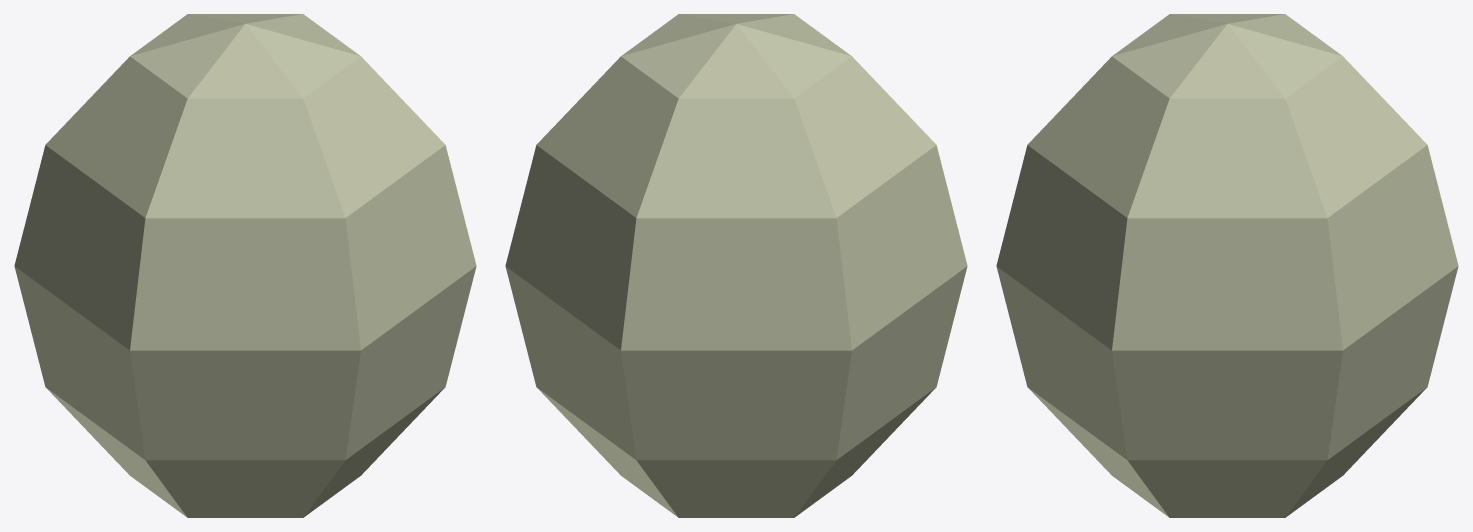
Rendered from Egg.fbx.
3 renders of one model, left to right at view 1: azimuth 30°, elevation 25°; view 2: azimuth 150°, elevation 25°; view 3: azimuth 270°, elevation 25°, orthographic.
Visible parts, largest first — view 1: Egg; view 2: Egg; view 3: Egg.
Boxes of the visible parts, x1,y1,x2,y2 form: Egg: (14, 14, 476, 517); Egg: (505, 14, 967, 517); Egg: (996, 14, 1458, 517).
Bounding box in the file's own units: 15.62 × 18.04 × 20.86.
